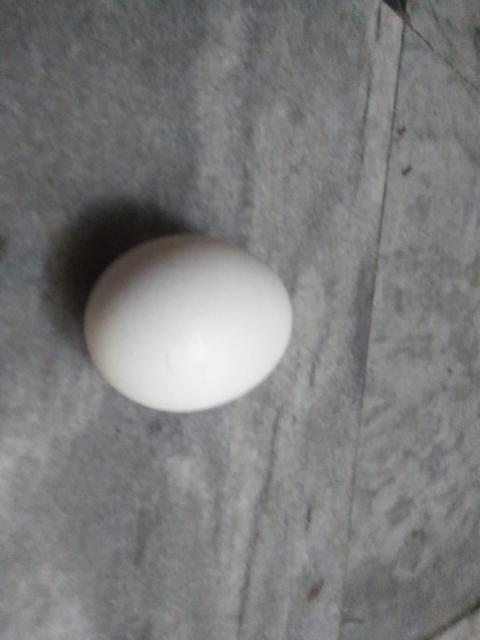Sano: (86, 236, 293, 412)
